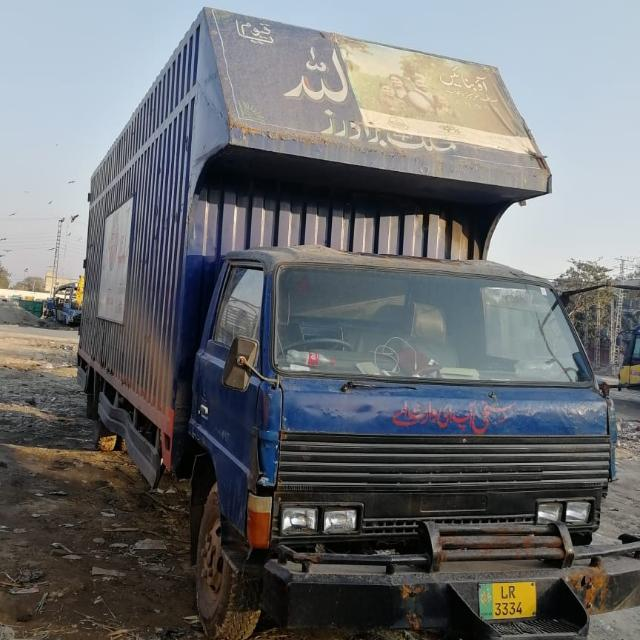plate: (476, 573, 544, 613)
